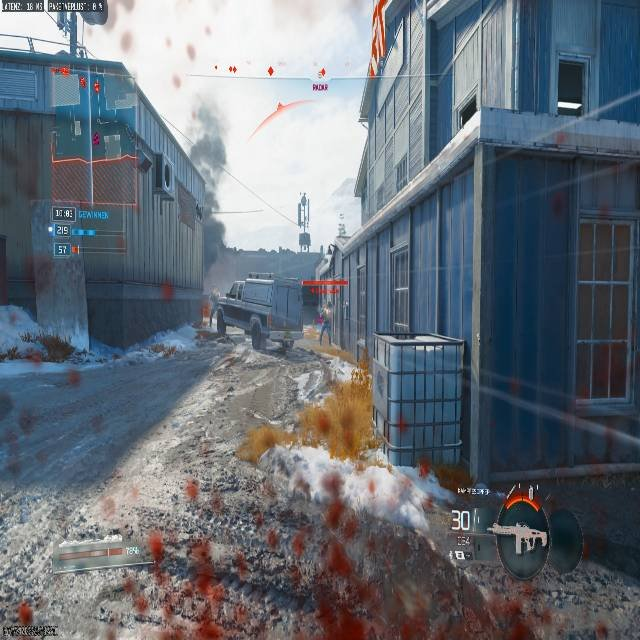player: (316, 301, 331, 345)
